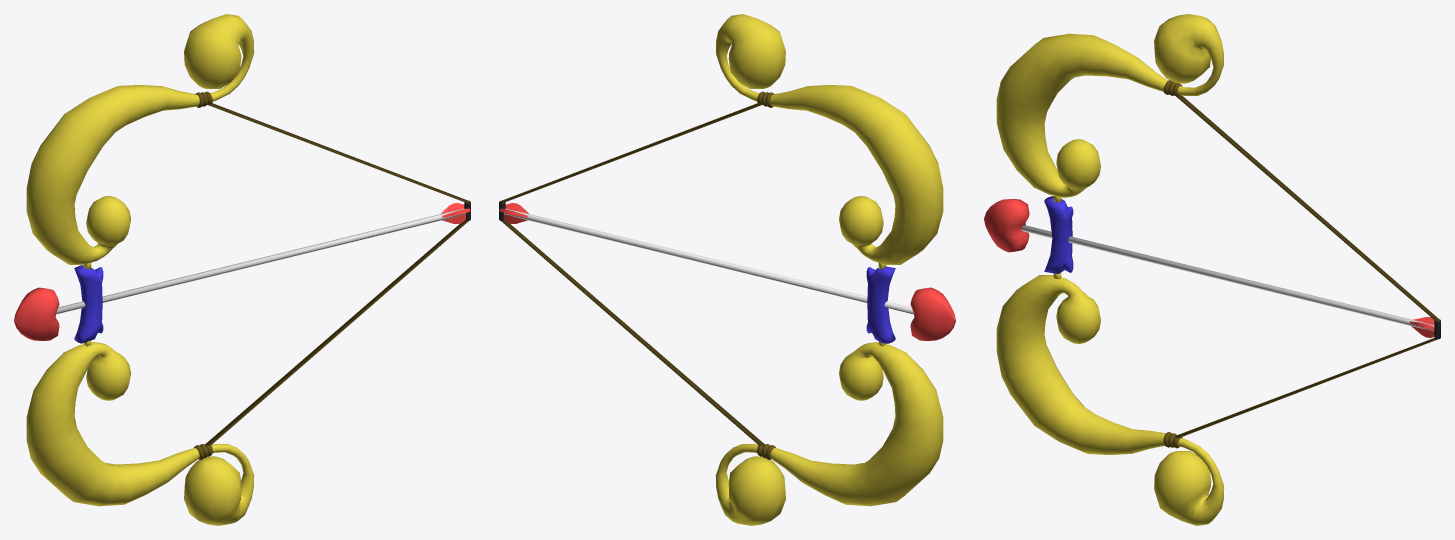
File: bow_4_arrow_2.fbx
3 renders of one model, left to right at view 1: azimuth 30°, elevation 25°; view 2: azimuth 150°, elevation 25°; view 3: azimuth 330°, elevation 25°, orthographic.
Parts seen in each view (by area): view 1: bow_4, arrow_2, bow_4_1; view 2: bow_4, arrow_2, bow_4_1; view 3: bow_4, arrow_2, bow_4_1.
Boxes of the visible parts, x1=… form: bow_4: x1=26, y1=14, x2=254, y2=525; arrow_2: x1=14, y1=203, x2=470, y2=340; bow_4_1: x1=205, y1=103, x2=470, y2=447; bow_4: x1=715, y1=14, x2=943, y2=525; arrow_2: x1=499, y1=203, x2=955, y2=340; bow_4_1: x1=499, y1=103, x2=764, y2=447; bow_4: x1=996, y1=14, x2=1224, y2=525; arrow_2: x1=984, y1=199, x2=1434, y2=337; bow_4_1: x1=1174, y1=95, x2=1440, y2=437.
Bounding box in the file's own units: 81.19 × 86.09 × 9.55.
